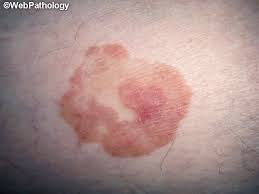melanoma: (44, 37, 205, 171)
